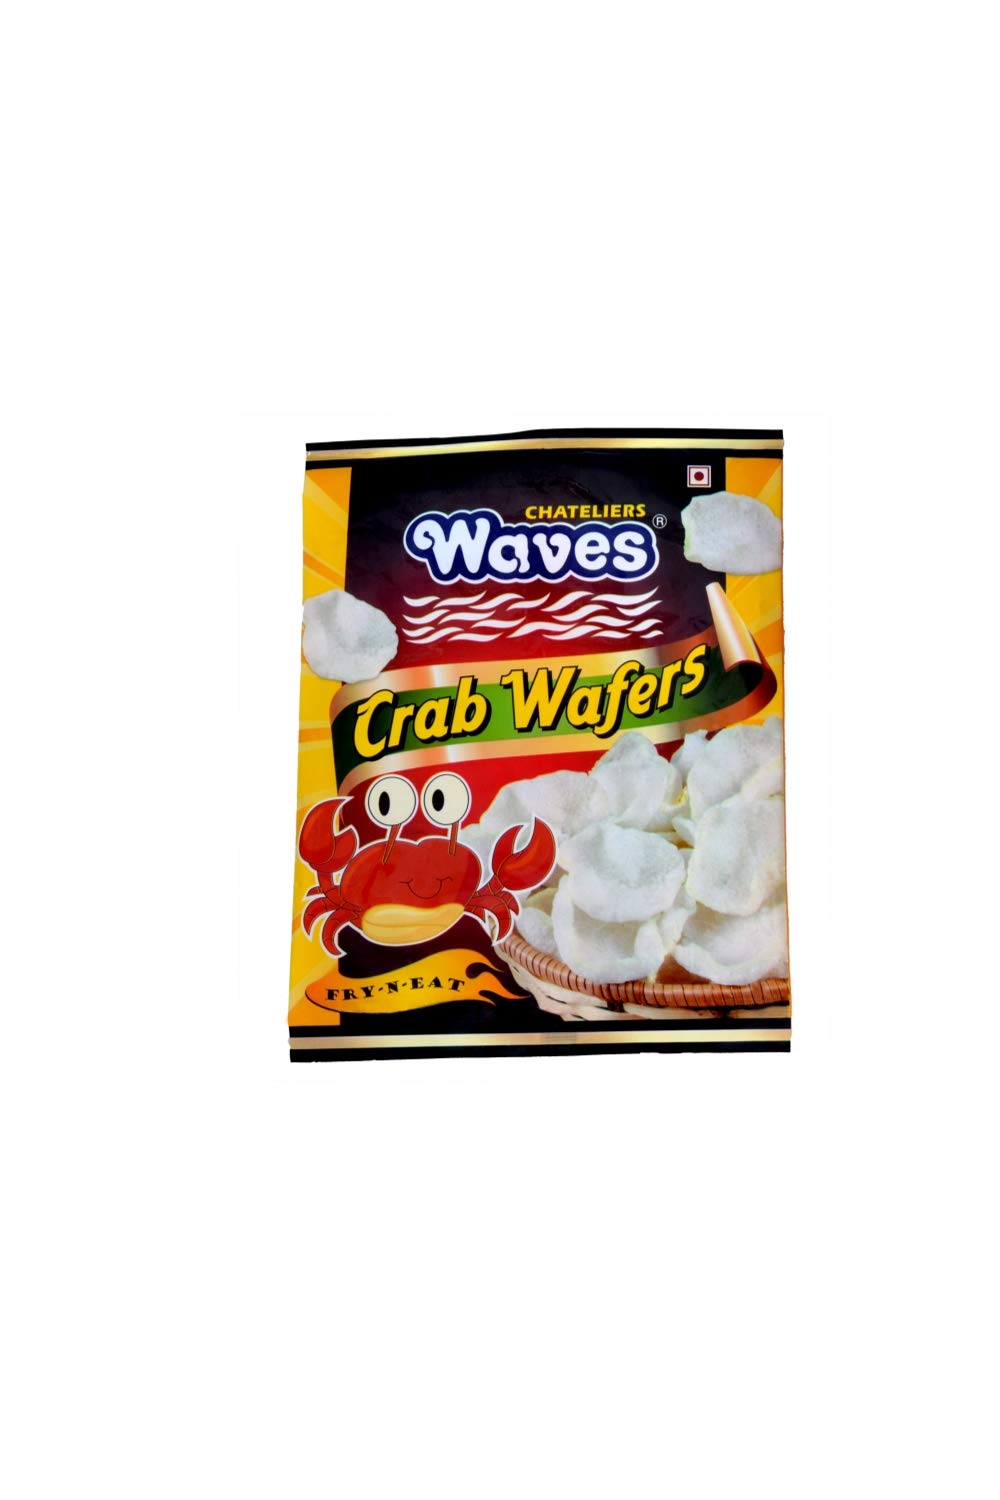nonveg_red: (687, 464, 710, 488)
